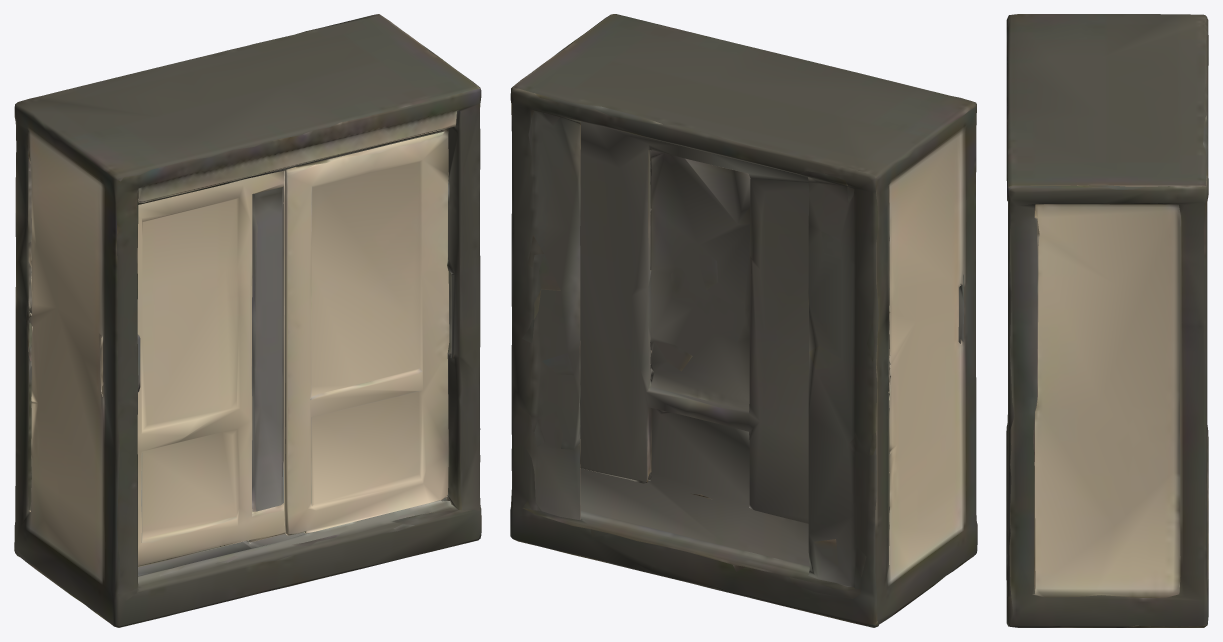
Rendered from built_in_wardrobe.glb.
3 views of the same model, side by side, from view 1: azimuth 30°, elevation 25°; view 2: azimuth 150°, elevation 25°; view 3: azimuth 270°, elevation 25° (orthographic). The views are drawn at different scales.
Visible parts, largest first — view 1: geometry_0; view 2: geometry_0; view 3: geometry_0.
Boxes of the visible parts, x1=… form: geometry_0: x1=14, y1=14, x2=481, y2=627; geometry_0: x1=510, y1=14, x2=977, y2=627; geometry_0: x1=1006, y1=14, x2=1208, y2=627.
Bounding box in the file's own units: 0.8502 × 1 × 0.4158.
1 material, 1 textured.
